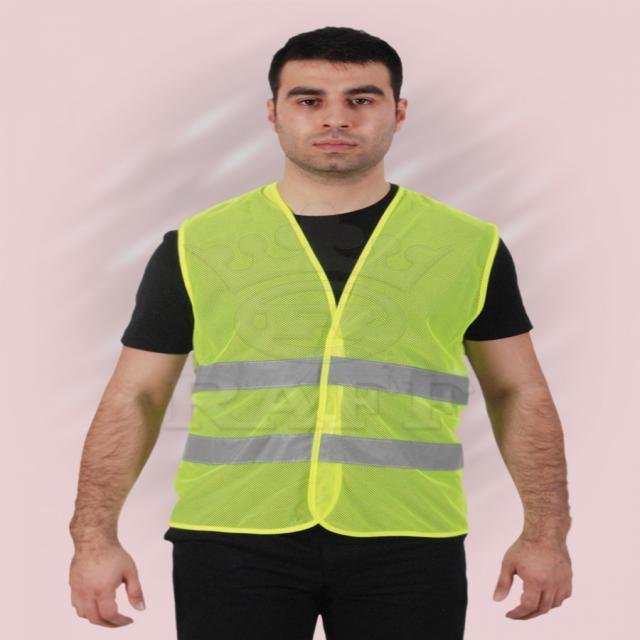Reflective-Jacket: (157, 185, 504, 541)
